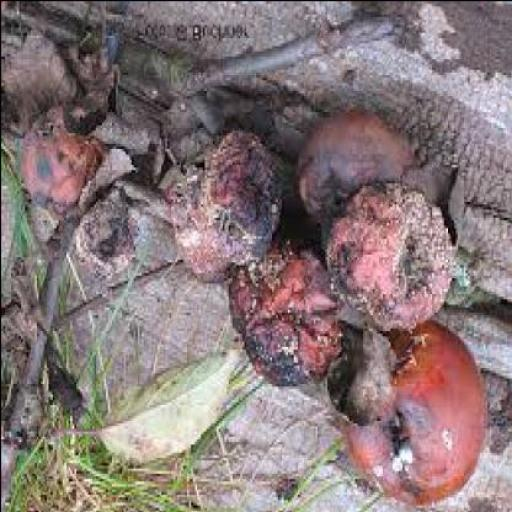biodegradable: (0, 32, 143, 282), (340, 322, 482, 506), (322, 185, 450, 332), (224, 238, 340, 390), (166, 132, 278, 288), (95, 352, 235, 464), (292, 116, 419, 232), (12, 111, 102, 219), (324, 330, 398, 431), (404, 169, 460, 248)
